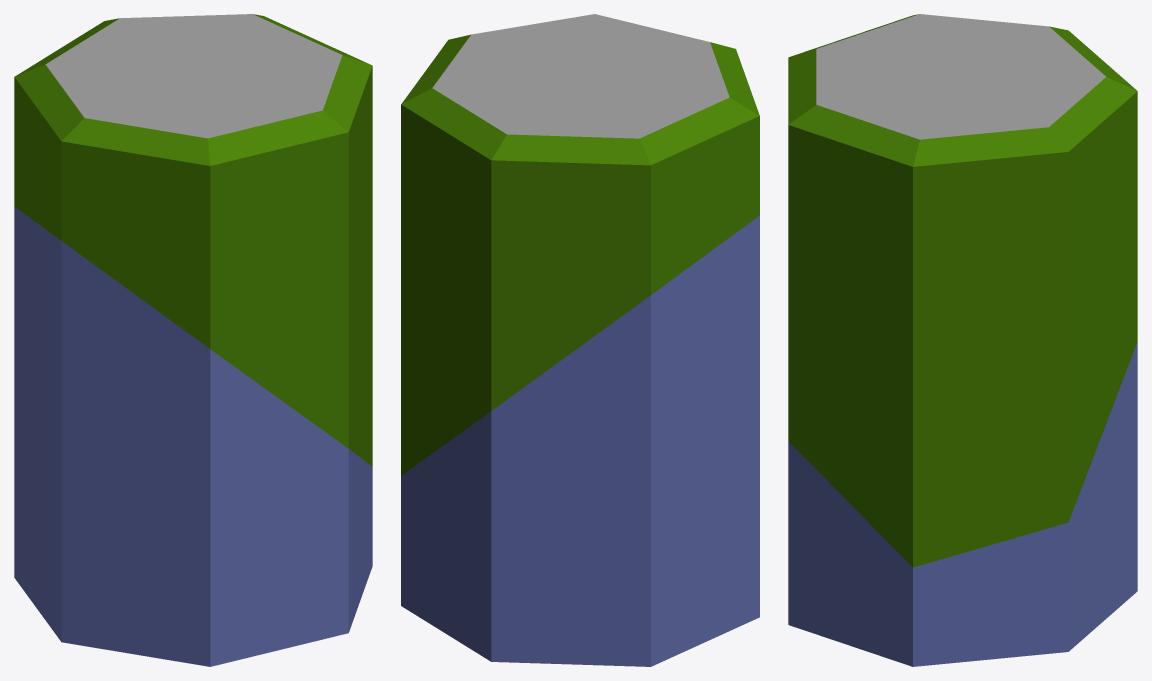
File: Can.fbx
3 views of the same model, side by side, from view 1: azimuth 30°, elevation 25°; view 2: azimuth 150°, elevation 25°; view 3: azimuth 270°, elevation 25° (orthographic).
Parts seen in each view (by area): view 1: Can; view 2: Can; view 3: Can.
Boxes of the visible parts, <box> form: Can: <box>14,14,372,666</box>; Can: <box>401,14,759,666</box>; Can: <box>788,14,1137,666</box>.
Bounding box in the file's own units: 16.17 × 25.6 × 15.77.
